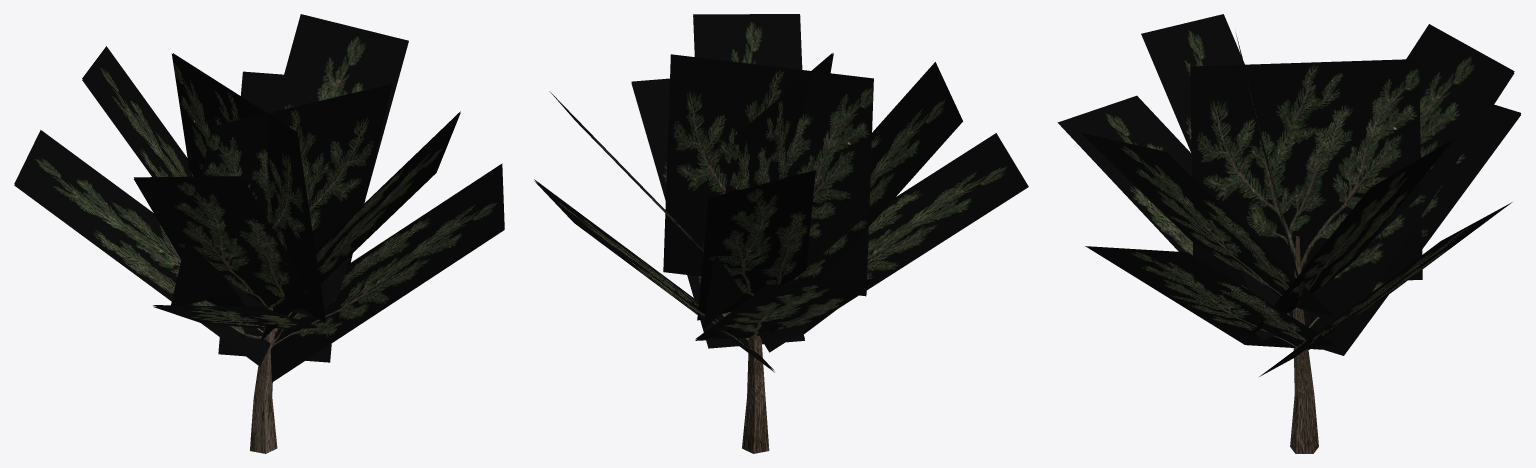
The model's file is mtns_shrb_evergreen_a1_l0.fbx.
3 views of the same model, side by side, from view 1: azimuth 30°, elevation 25°; view 2: azimuth 150°, elevation 25°; view 3: azimuth 270°, elevation 25° (orthographic). The views are drawn at different scales.
Parts seen in each view (by area): view 1: mesh_node; view 2: mesh_node; view 3: mesh_node.
Boxes of the visible parts, <box> form: mesh_node: <box>14,14,504,453</box>; mesh_node: <box>534,14,1028,453</box>; mesh_node: <box>1057,14,1520,453</box>.
Size of the model in its own units: 4.38 by 4.09 by 4.56.
